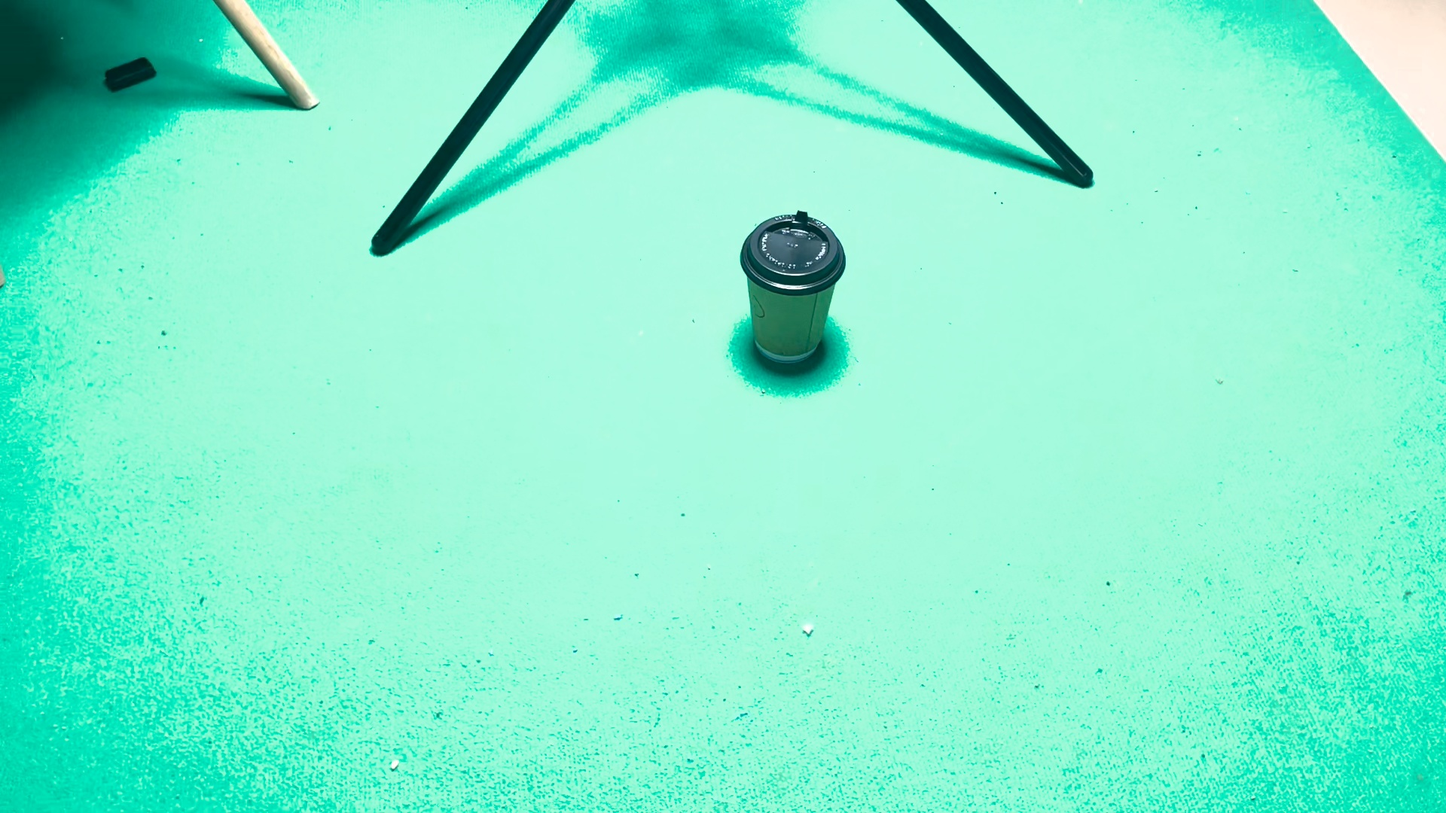cup: (745, 423, 837, 538)
